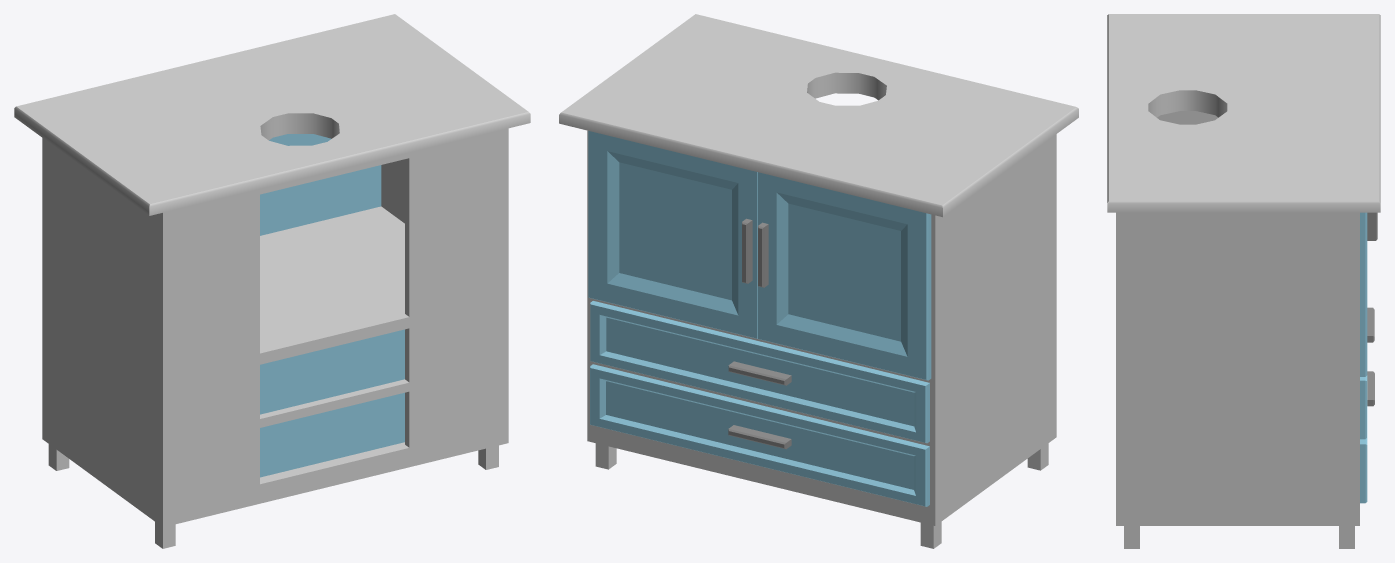
The model's file is BATHROOM_underWashBasin_03.FBX.
The picture shows the model from 3 angles, left to right: view 1: azimuth 30°, elevation 25°; view 2: azimuth 150°, elevation 25°; view 3: azimuth 270°, elevation 25°; orthographic projection.
Parts seen in each view (by area): view 1: BATHROOM_underWashBasin_03_base, BATHROOM_underWashBasin_03_inside, BATHROOM_underWashBasin_03_drawer_01, BATHROOM_underWashBasin_03_drawer_02, BATHROOM_underWashBasin_03_leftDoor; view 2: BATHROOM_underWashBasin_03_base, BATHROOM_underWashBasin_03_rightDoor, BATHROOM_underWashBasin_03_leftDoor, BATHROOM_underWashBasin_03_drawer_02, BATHROOM_underWashBasin_03_drawer_01; view 3: BATHROOM_underWashBasin_03_base, BATHROOM_underWashBasin_03_leftDoor, BATHROOM_underWashBasin_03_drawer_02, BATHROOM_underWashBasin_03_drawer_01, BATHROOM_underWashBasin_03_inside.
Boxes of the visible parts, left/top/right/bottom form: BATHROOM_underWashBasin_03_base: left=14, top=14, right=530, bottom=548; BATHROOM_underWashBasin_03_inside: left=260, top=159, right=409, bottom=479; BATHROOM_underWashBasin_03_drawer_01: left=260, top=329, right=404, bottom=414; BATHROOM_underWashBasin_03_drawer_02: left=260, top=392, right=404, bottom=477; BATHROOM_underWashBasin_03_leftDoor: left=260, top=134, right=381, bottom=235; BATHROOM_underWashBasin_03_base: left=559, top=14, right=1078, bottom=548; BATHROOM_underWashBasin_03_rightDoor: left=757, top=172, right=931, bottom=380; BATHROOM_underWashBasin_03_leftDoor: left=588, top=131, right=757, bottom=338; BATHROOM_underWashBasin_03_drawer_02: left=590, top=364, right=929, bottom=506; BATHROOM_underWashBasin_03_drawer_01: left=590, top=301, right=929, bottom=443; BATHROOM_underWashBasin_03_base: left=1107, top=14, right=1380, bottom=548; BATHROOM_underWashBasin_03_leftDoor: left=1360, top=212, right=1377, bottom=376; BATHROOM_underWashBasin_03_drawer_02: left=1360, top=371, right=1374, bottom=503; BATHROOM_underWashBasin_03_drawer_01: left=1360, top=307, right=1374, bottom=439; BATHROOM_underWashBasin_03_inside: left=1157, top=111, right=1218, bottom=124.
Size of the model in its own units: 111 by 98.83 by 68.18.
